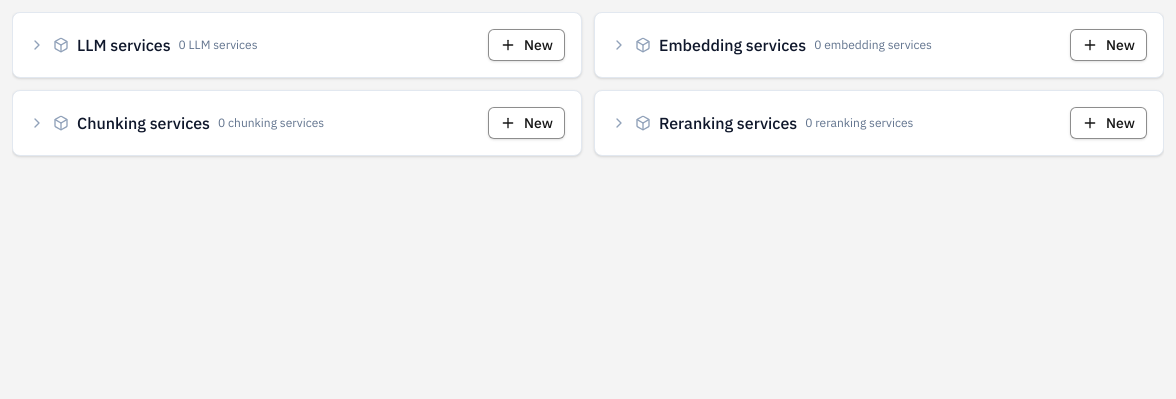
Scenario: ServicesPanel › surfaces the error message and a retry affordance when a list query fails
Click the button named "Embedding services". click: click(879, 45)
box: [595,13,1163,77]
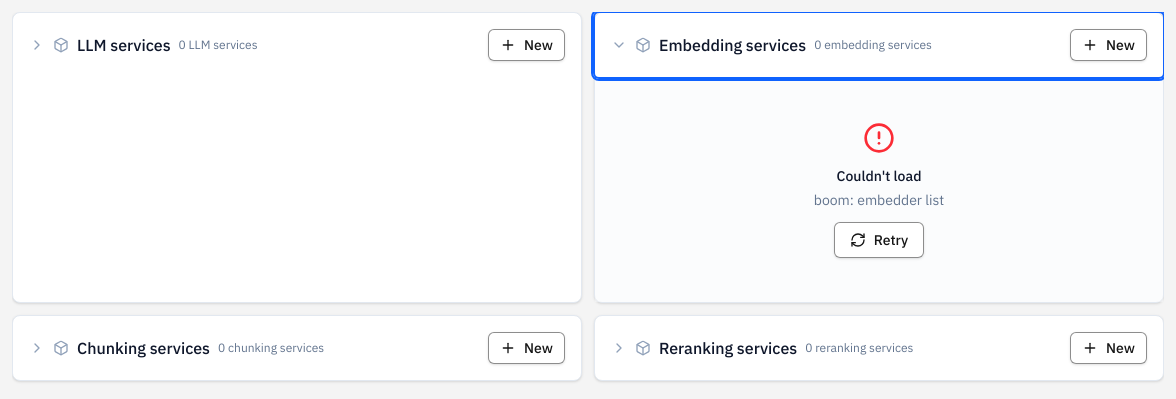
Expected: the text "Couldn't load" is shown, [837,167,921,185]
Expected: the text "boom: embedder list" is shown, [814,190,944,210]
Expected: the button "Retry" is shown, [834,222,924,258]
